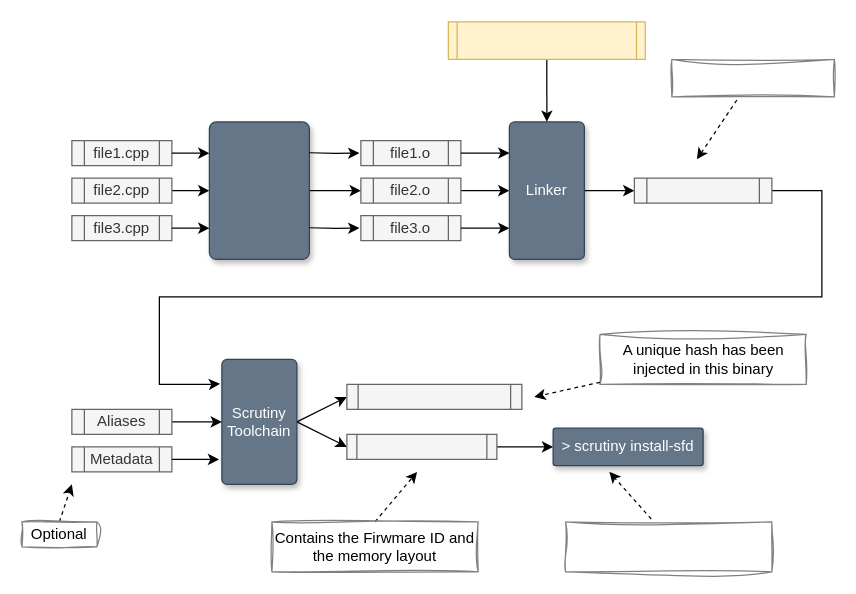
The diagram is 856 pixels wide and 594 high, and some of its shapes have lost their labels. Each missing label, with the centre of its shape:
CLI operation that installs the .sfd in the local storage: pixel 668 546
Compiler (-g enabled): pixel 260 192
firmware-tagged.elf: pixel 434 396
firmware.elf: pixel 702 190
firmware.sfd: pixel 421 446
scrutiny-embedded.lib: pixel 546 40
This .elf must contains the debug symbols: pixel 752 77
